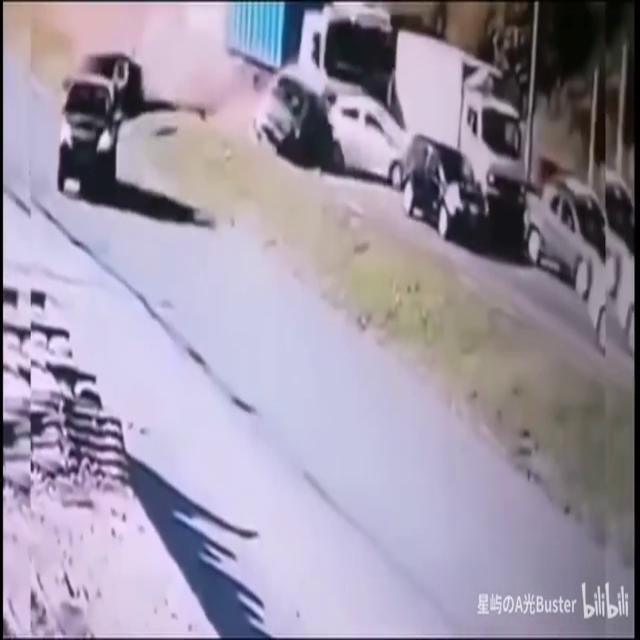multiple_accident: (37, 10, 460, 215)
